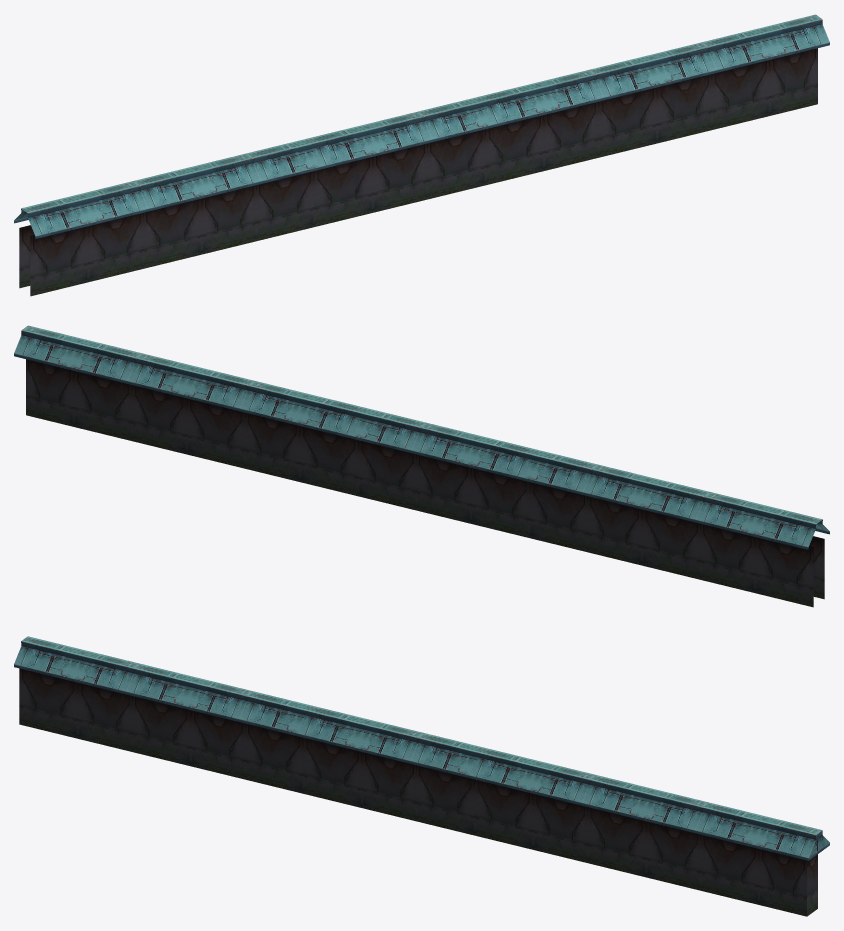
File: yw_huanghunbianjing_qiang02.FBX
3 renders of one model, top to bottom at view 1: azimuth 30°, elevation 25°; view 2: azimuth 150°, elevation 25°; view 3: azimuth 330°, elevation 25°, orthographic.
Visible parts, largest first — view 1: yw_huanghunbianjing_qiang02; view 2: yw_huanghunbianjing_qiang02; view 3: yw_huanghunbianjing_qiang02.
Boxes of the visible parts, x1,y1,x2,y2 form: yw_huanghunbianjing_qiang02: (14, 14, 829, 296); yw_huanghunbianjing_qiang02: (14, 325, 829, 607); yw_huanghunbianjing_qiang02: (14, 636, 829, 916).
Bounding box in the file's own units: 2362 × 232 × 110.
1 material, 1 textured.
